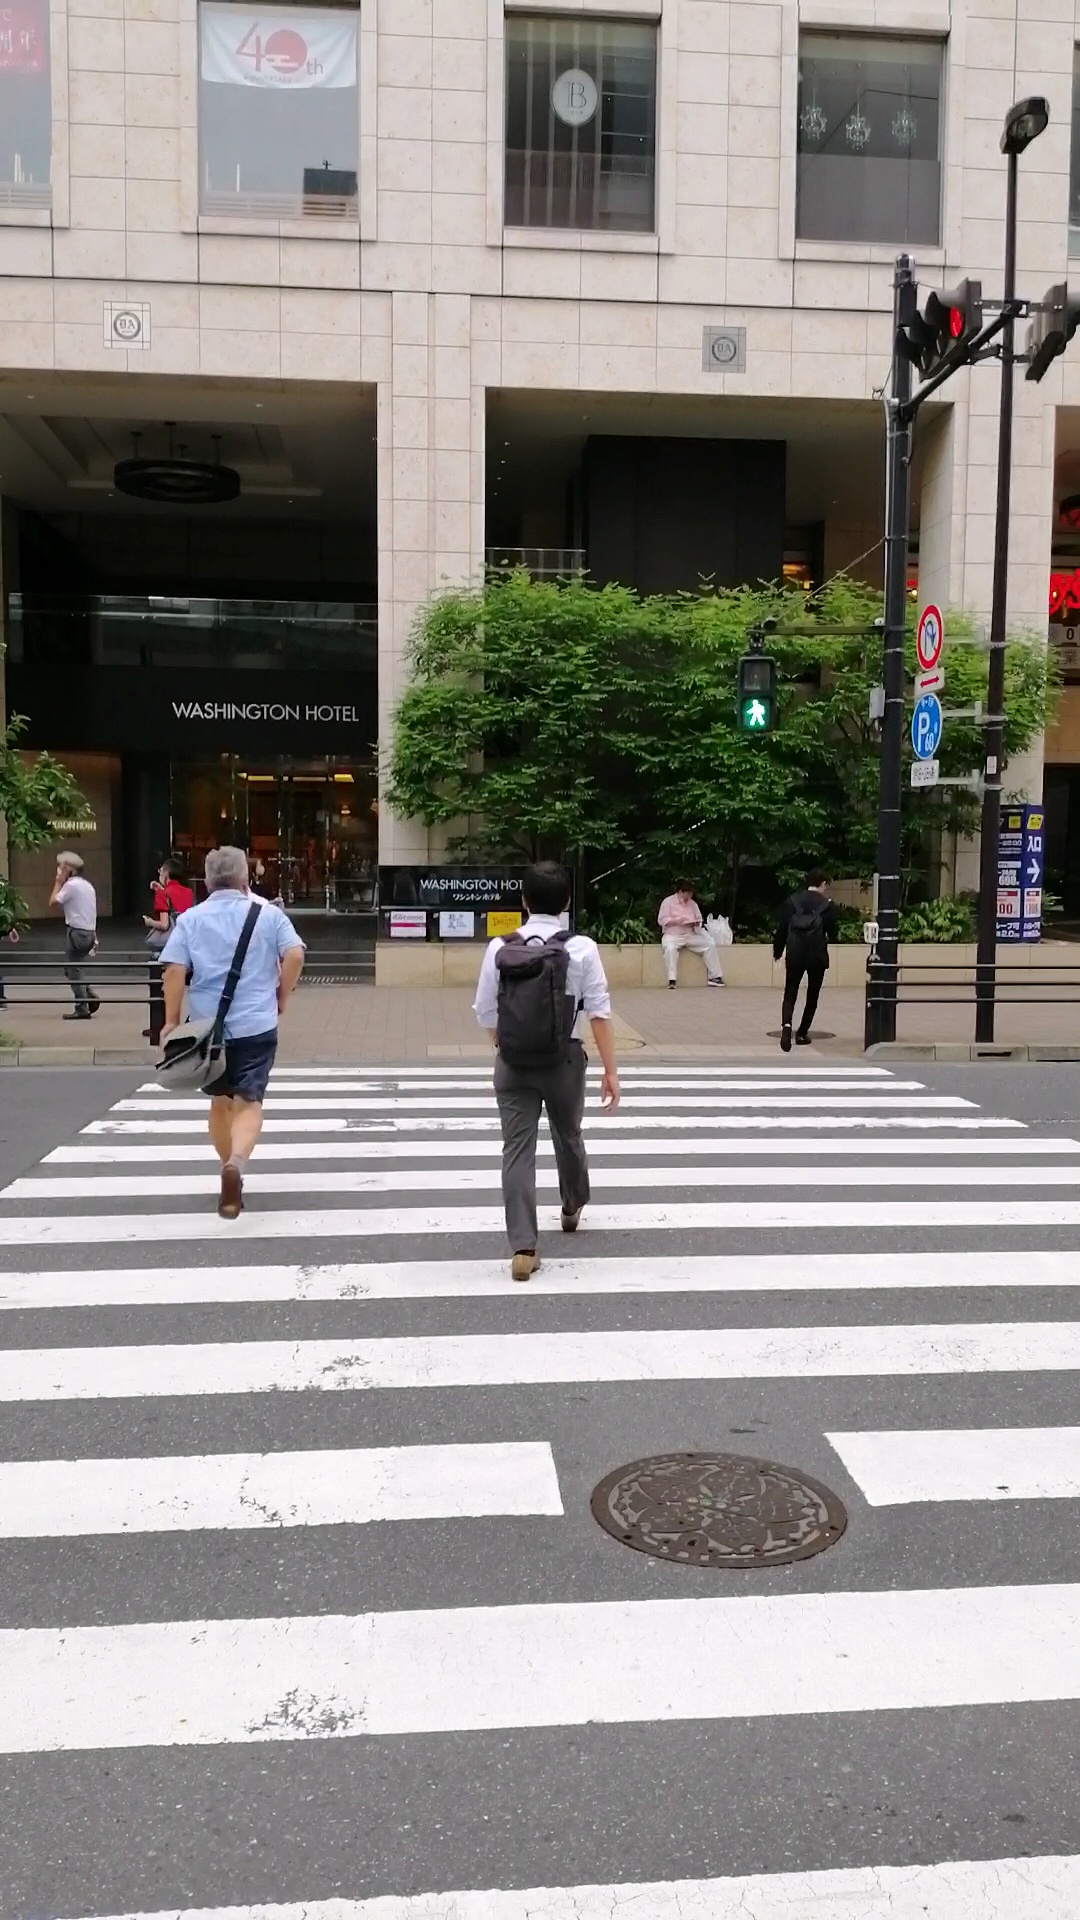green: (738, 655, 775, 731)
